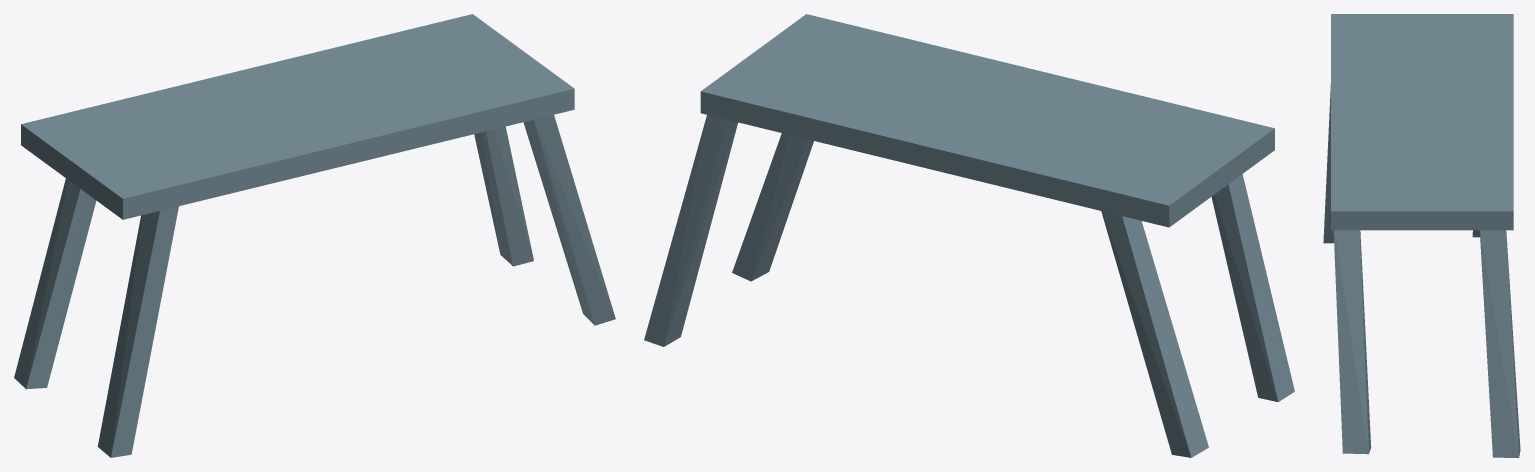
The picture shows the model from 3 angles, left to right: view 1: azimuth 30°, elevation 25°; view 2: azimuth 150°, elevation 25°; view 3: azimuth 270°, elevation 25°; orthographic projection. The views are drawn at different scales.
Visible parts, largest first — view 1: mesh_1841493639, mesh_783345511, mesh_1827046341, mesh_1285877026, mesh_998782767; view 2: mesh_1841493639, mesh_1827046341, mesh_783345511, mesh_998782767, mesh_1285877026; view 3: mesh_1841493639, mesh_998782767, mesh_1285877026, mesh_783345511.
Boxes of the visible parts, <box> form: mesh_1841493639: <box>21,14,574,219</box>; mesh_783345511: <box>97,206,178,457</box>; mesh_1827046341: <box>14,178,96,389</box>; mesh_1285877026: <box>523,115,615,325</box>; mesh_998782767: <box>474,126,533,266</box>; mesh_1841493639: <box>700,14,1274,227</box>; mesh_1827046341: <box>1101,211,1208,457</box>; mesh_783345511: <box>1211,174,1294,401</box>; mesh_998782767: <box>644,115,738,346</box>; mesh_1285877026: <box>732,133,813,281</box>; mesh_1841493639: <box>1331,14,1513,230</box>; mesh_998782767: <box>1479,230,1520,457</box>; mesh_1285877026: <box>1333,230,1371,454</box>; mesh_783345511: <box>1323,84,1333,243</box>.
Bounding box in the file's own units: 491 × 229 × 180.
